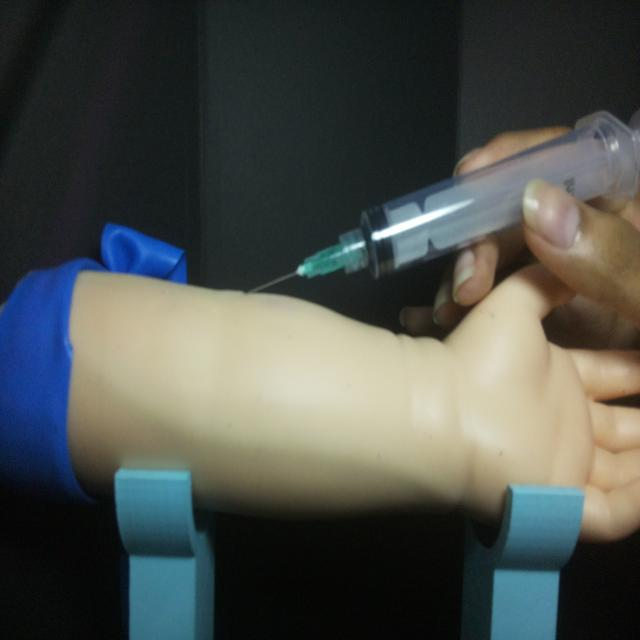17deg: (243, 105, 637, 298)
